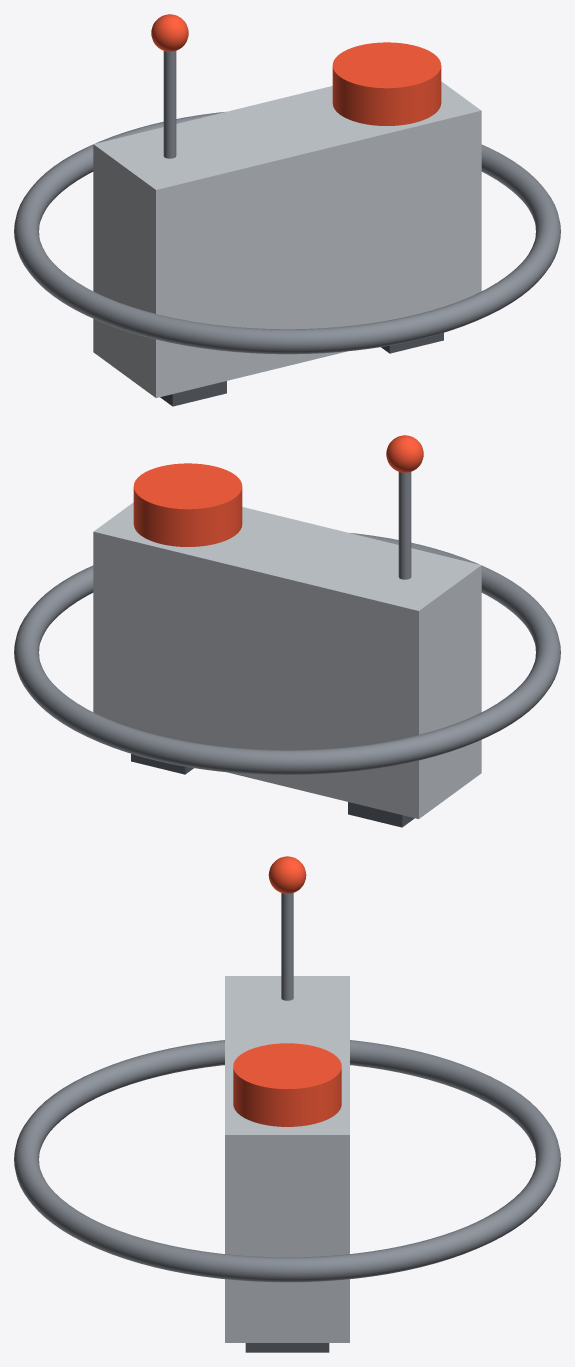
File: machine-quad.glb
The picture shows the model from 3 angles, top to bottom: view 1: azimuth 30°, elevation 25°; view 2: azimuth 150°, elevation 25°; view 3: azimuth 270°, elevation 25°; orthographic projection.
Parts seen in each view (by area): view 1: body, ring, dial, mast, tip, footL; view 2: body, ring, dial, mast, tip, footL; view 3: body, ring, dial, mast, tip, footR.
Part boxes in pixels (x1,y1,x2,y2): body: (93, 81, 481, 397); ring: (14, 112, 560, 354); dial: (332, 42, 441, 125); mast: (163, 51, 176, 158); tip: (151, 14, 188, 51); footL: (160, 381, 226, 406); body: (93, 502, 481, 818); ring: (14, 533, 560, 775); dial: (133, 463, 242, 546); mast: (398, 472, 411, 579); tip: (386, 435, 423, 472); footL: (348, 802, 414, 827); body: (225, 976, 349, 1342); ring: (14, 1040, 560, 1282); dial: (233, 1043, 341, 1126); mast: (281, 893, 293, 1000); tip: (268, 856, 306, 893); footR: (245, 1343, 329, 1352).
Bounding box in the file's own units: 2.62 × 1.96 × 2.62.
